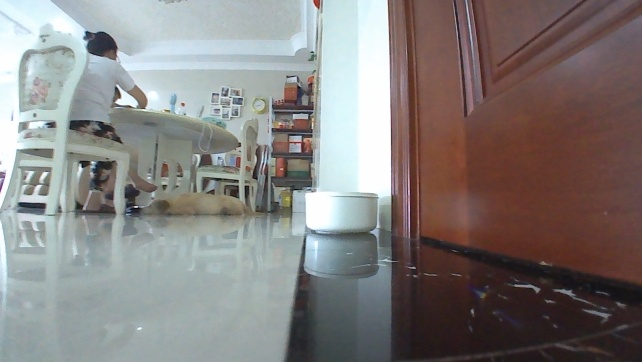dining_table: (0, 20, 261, 219)
dog: (137, 190, 267, 218)
